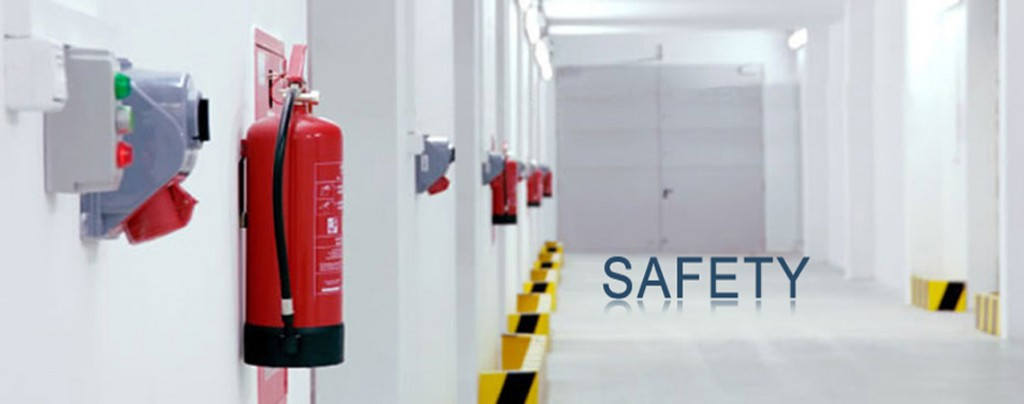fire: (244, 45, 344, 366), (490, 156, 517, 226)
